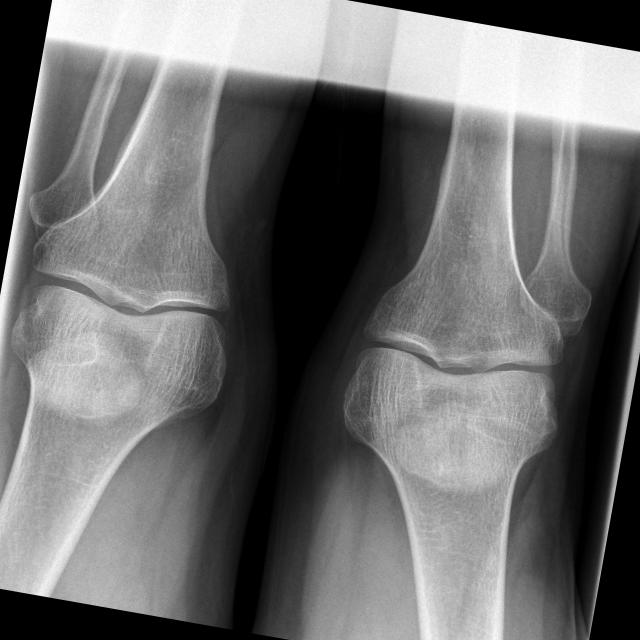Knee: (336, 276, 581, 473), (5, 216, 251, 404)
